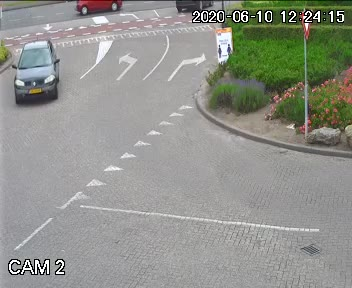car: (10, 38, 64, 111), (67, 0, 129, 22)
